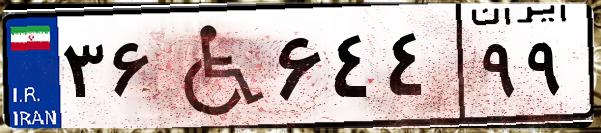3: (57, 26, 110, 100)
4: (385, 28, 445, 110), (330, 28, 385, 110)
6: (270, 28, 330, 110), (110, 28, 158, 98)
9: (475, 38, 525, 113), (525, 38, 570, 115)
ژ (معلولین و جانبازان): (158, 12, 270, 120)
